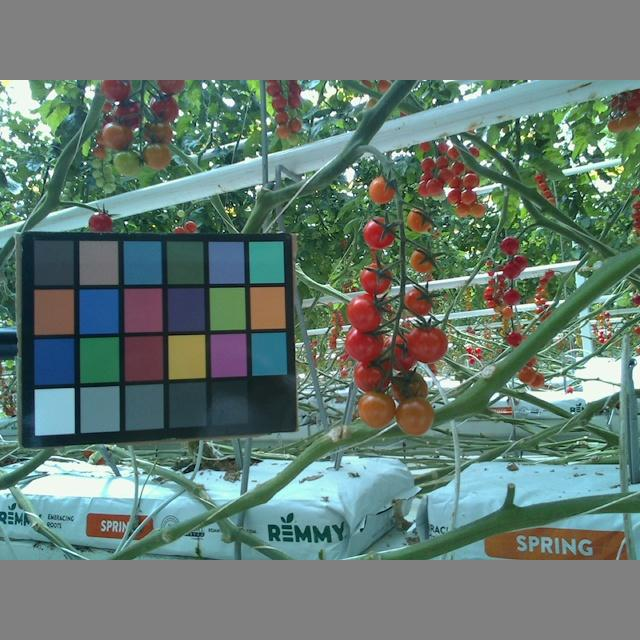green: (111, 149, 145, 177)
pink: (356, 392, 398, 428), (396, 394, 432, 434), (391, 370, 432, 404), (101, 121, 135, 151), (139, 141, 170, 171), (366, 175, 398, 203), (141, 119, 177, 143), (401, 289, 433, 316), (406, 205, 433, 232), (409, 249, 435, 275), (616, 110, 638, 133), (423, 175, 442, 194), (420, 156, 437, 173), (463, 171, 480, 188), (461, 189, 477, 205), (469, 203, 486, 218), (439, 168, 454, 182), (449, 142, 460, 158)
red: (407, 325, 451, 362), (344, 294, 385, 333), (342, 326, 385, 363), (352, 360, 390, 392), (361, 216, 397, 249), (147, 93, 183, 120), (360, 264, 394, 289), (501, 230, 519, 254), (501, 260, 522, 279), (501, 288, 521, 304)
